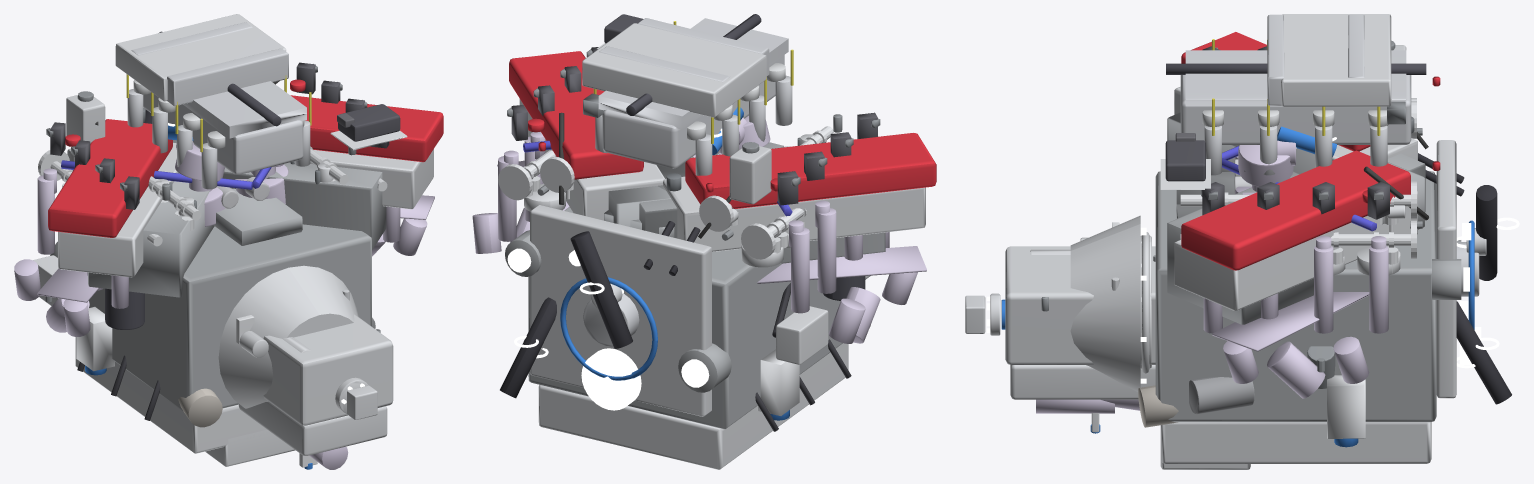
File: powertrain_v8tt_seq6_complete.glb
3 views of the same model, side by side, from view 1: azimuth 30°, elevation 25°; view 2: azimuth 150°, elevation 25°; view 3: azimuth 270°, elevation 25° (orthographic). The views are drawn at different scales.
Visible parts, largest first — view 1: Engine_V8_Block, Trans_Gearbox_Case, Engine_V8_IntakeManifold, Engine_V8_Intercooler, Engine_V8_ValveCover_L, Trans_Bellhousing, Engine_V8_OilPan, Engine_V8_ValveCover_R, Engine_V8_ExhaustHeader_L, Engine_V8_CylinderHead_L, Engine_V8_WiringHarness, Engine_V8_CylinderHead_R (+11 smaller); view 2: Engine_V8_TimingCover_Accessories, Engine_V8_Block, Engine_V8_Intercooler, Engine_V8_ValveCover_L, Engine_V8_IntakeManifold, Engine_V8_OilPan, Engine_V8_ExhaustHeader_L, Engine_V8_ValveCover_R, Engine_V8_CylinderHead_L, Engine_V8_CoolantSystem, Engine_V8_Valvetrain, Engine_V8_DrySumpSystem (+6 smaller); view 3: Engine_V8_Block, Engine_V8_IntakeManifold, Engine_V8_ValveCover_R, Trans_Gearbox_Case, Engine_V8_ExhaustHeader_R, Engine_V8_Intercooler, Engine_V8_OilPan, Trans_Bellhousing, Engine_V8_CylinderHead_R, Engine_V8_TimingCover_Accessories, Engine_V8_CoolantSystem, Engine_V8_WiringHarness (+11 smaller).
Boxes of the visible parts, x1,y1,x2,y2 form: Engine_V8_Block: (88,140,386,411); Trans_Gearbox_Case: (238,314,393,455); Engine_V8_IntakeManifold: (127,80,310,189); Engine_V8_Intercooler: (115,14,288,106); Engine_V8_ValveCover_L: (46,119,172,237); Trans_Bellhousing: (218,265,358,408); Engine_V8_OilPan: (75,337,295,466); Engine_V8_ValveCover_R: (290,62,443,162); Engine_V8_ExhaustHeader_L: (14,175,128,336); Engine_V8_CylinderHead_L: (43,142,193,277); Engine_V8_WiringHarness: (126,31,407,152); Engine_V8_CylinderHead_R: (310,149,433,209); Engine_V8_TimingCover_Accessories: (505,205,731,416); Engine_V8_Block: (528,142,885,429); Engine_V8_Intercooler: (582,18,769,117); Engine_V8_ValveCover_L: (685,112,936,208); Engine_V8_IntakeManifold: (583,18,792,175); Engine_V8_OilPan: (538,343,848,469); Engine_V8_ExhaustHeader_L: (757,208,926,343); Engine_V8_ValveCover_R: (507,47,643,179); Engine_V8_CylinderHead_L: (663,134,925,267); Engine_V8_CoolantSystem: (500,142,771,398); Engine_V8_Valvetrain: (498,126,833,259); Engine_V8_DrySumpSystem: (755,276,865,431); Engine_V8_Block: (1155,112,1436,422); Engine_V8_IntakeManifold: (1180,50,1411,175); Engine_V8_ValveCover_R: (1181,150,1410,270); Trans_Gearbox_Case: (1001,246,1155,399); Engine_V8_ExhaustHeader_R: (1203,246,1388,398); Engine_V8_Intercooler: (1267,14,1391,106); Engine_V8_OilPan: (1160,422,1431,469); Trans_Bellhousing: (1070,215,1146,391); Engine_V8_CylinderHead_R: (1174,191,1422,310); Engine_V8_TimingCover_Accessories: (1432,140,1486,398); Engine_V8_CoolantSystem: (1391,40,1519,404); Engine_V8_WiringHarness: (1160,39,1426,189).
Bounding box in the file's own units: 1.03 × 0.8796 × 1.11.
